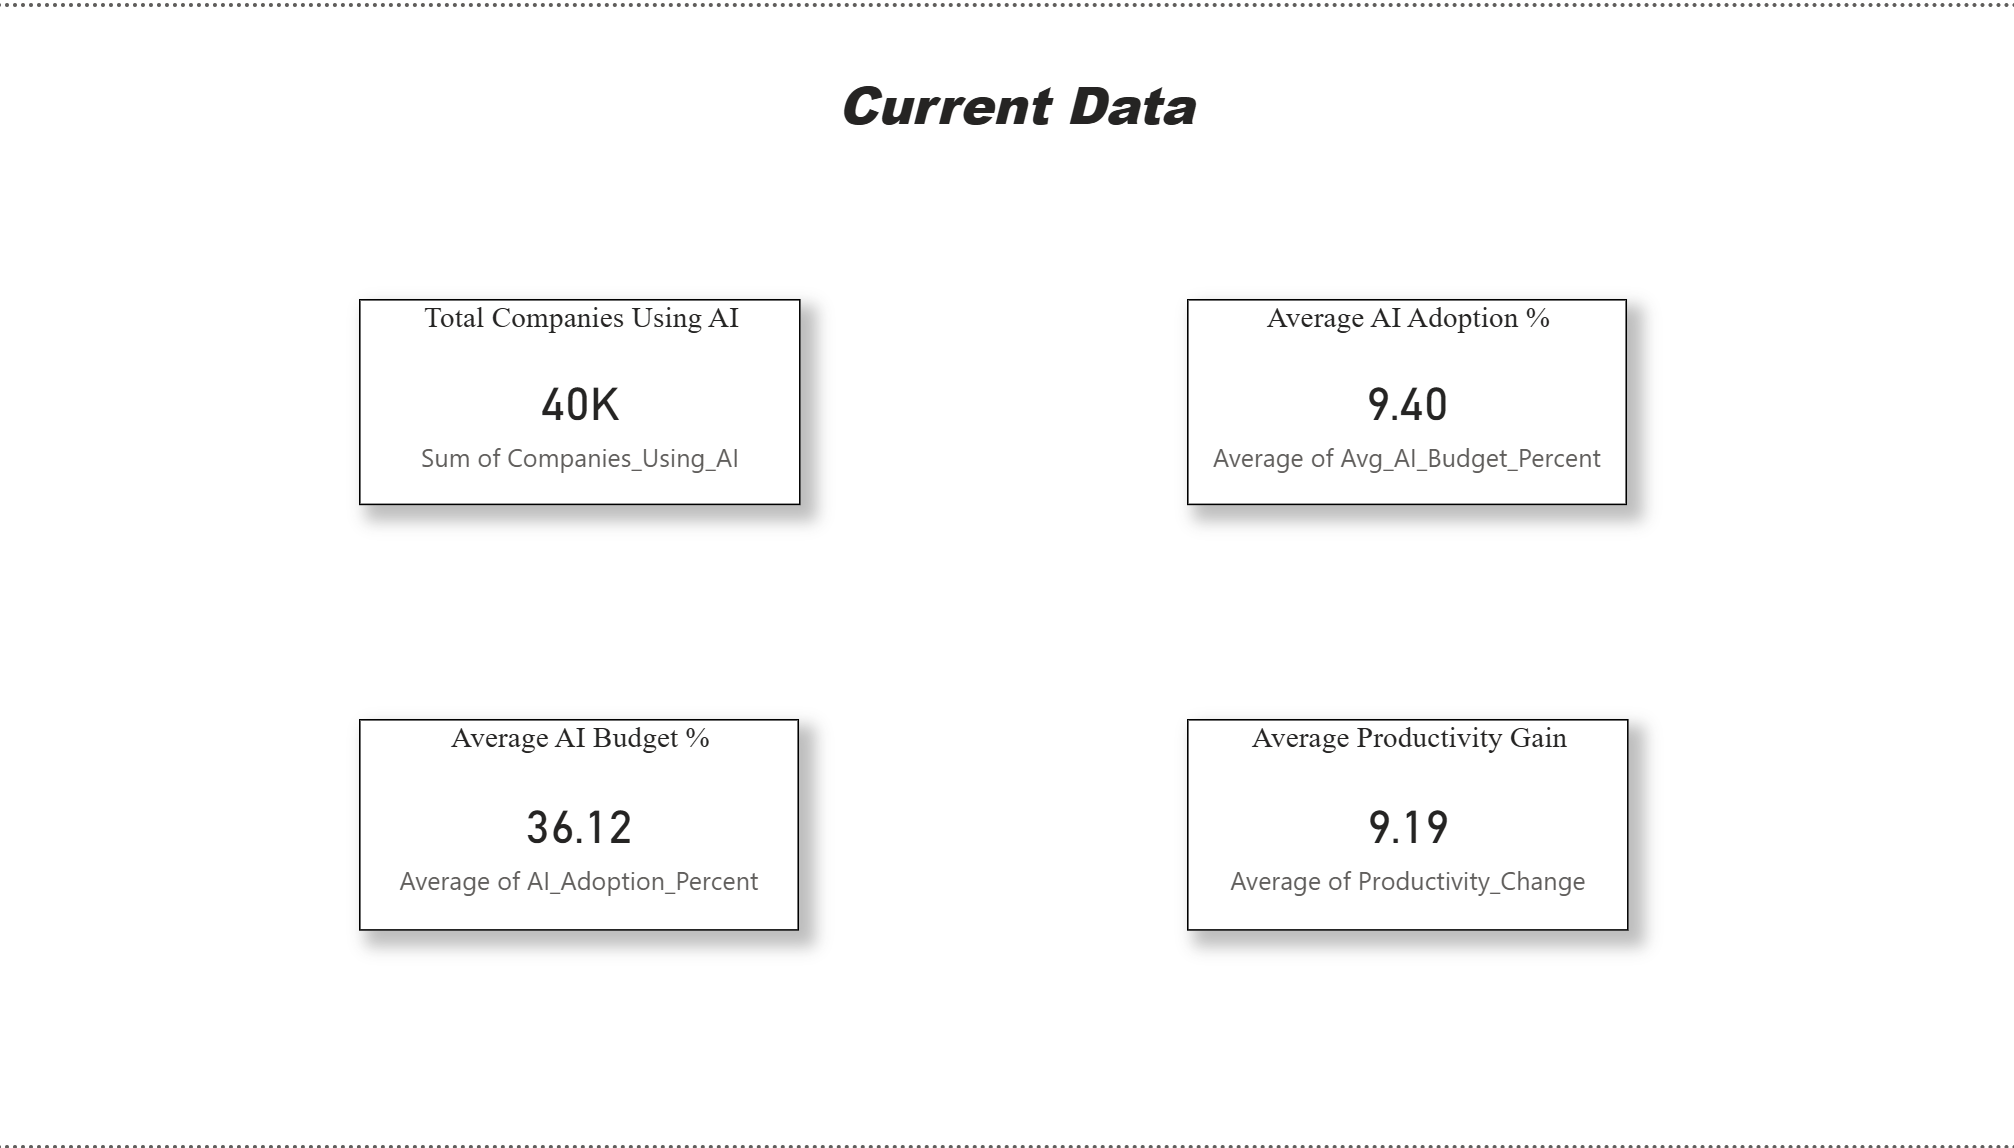

Layout of this report page (visuals, bound fields, positions):
{"tool":"powerbi","page":{"name":"Data","canvas":[1280,720],"ordinal":1},"visuals":[{"type":"card","title":"Total Companies Using AI","fields":{"Values":["Sum(Sheet1.Companies_Using_AI)"]},"box":[231.6,184.8,279.7,130.4],"z":0},{"type":"card","title":"Average AI Budget %","fields":{"Values":["Avg(Sheet1.AI_Adoption_Percent)"]},"box":[231.6,450.6,278.5,134.2],"z":1000},{"type":"card","title":"Average AI Adoption %","fields":{"Values":["Avg(Sheet1.Avg_AI_Budget_Percent)"]},"box":[755.7,184.8,278.5,130.4],"z":2000},{"type":"card","title":"Average Productivity Gain","fields":{"Values":["Avg(Sheet1.Productivity_Change)"]},"box":[755.7,450.6,279.7,134.2],"z":3000},{"type":"textbox","box":[93.7,34.2,1107.6,79.7],"z":3001}]}

Visuals, with their boxes in screenshot pixels (x1, y1, x2, y2), scaled from the page's 1280x720 canvas onto the 2014x1148 screenshot:
"Total Companies Using AI" card: (x1=364, y1=295, x2=804, y2=503)
"Average AI Budget %" card: (x1=364, y1=718, x2=803, y2=932)
"Average AI Adoption %" card: (x1=1189, y1=295, x2=1627, y2=503)
"Average Productivity Gain" card: (x1=1189, y1=718, x2=1629, y2=932)
textbox: (x1=147, y1=55, x2=1890, y2=182)
